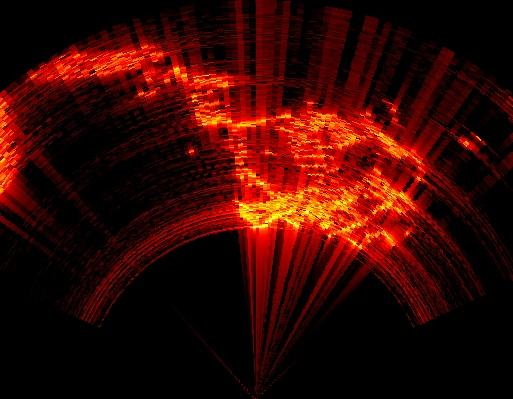shipwreck: (195, 103, 420, 247), (31, 43, 243, 106)
